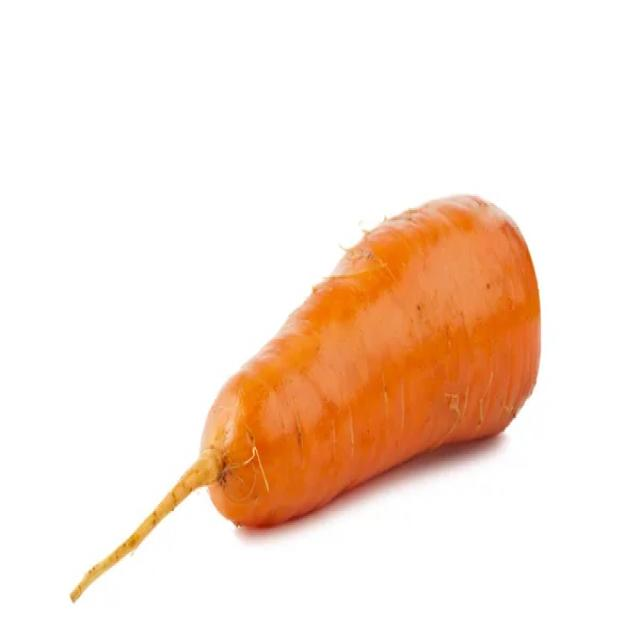Carrot: (74, 191, 544, 603)
